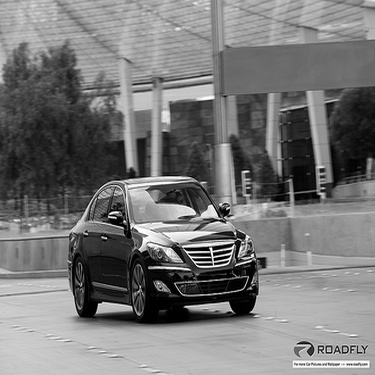car: (53, 171, 268, 324)
